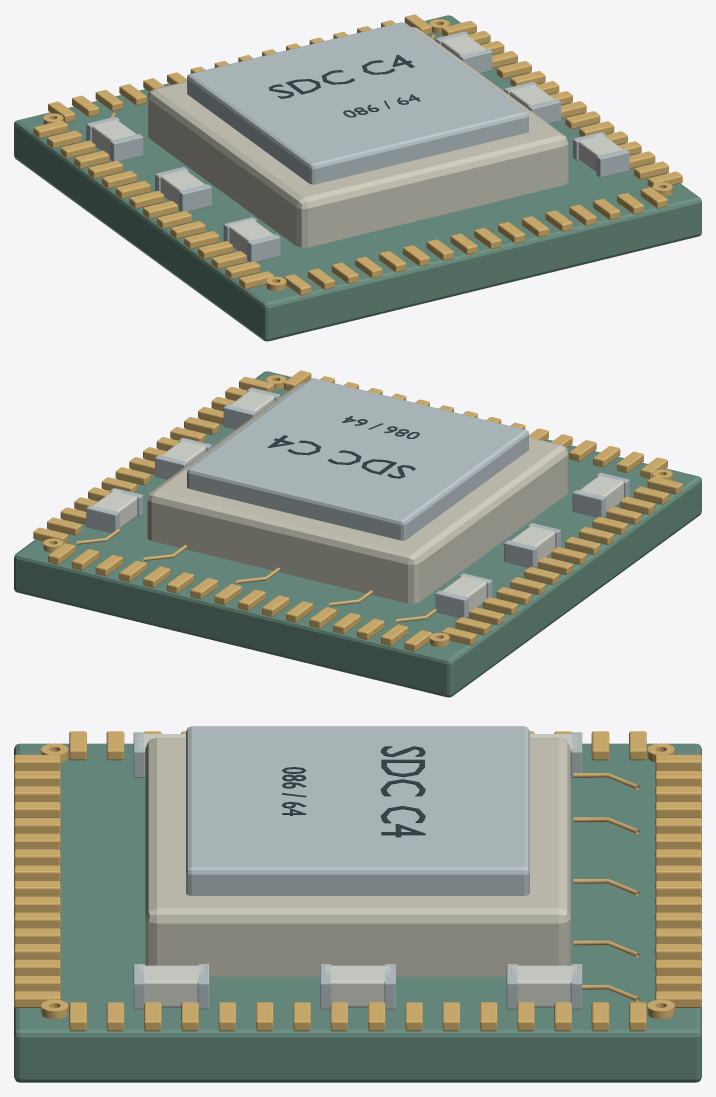
Rendered from loot_processor.glb.
3 renders of one model, top to bottom at view 1: azimuth 30°, elevation 25°; view 2: azimuth 150°, elevation 25°; view 3: azimuth 270°, elevation 25°, orthographic. The views are drawn at different scales.
Visible parts, largest first — view 1: loot_processor; view 2: loot_processor; view 3: loot_processor.
Part boxes in pixels (x1,y1,x2,y2): loot_processor: [14, 14, 701, 341]; loot_processor: [14, 370, 701, 697]; loot_processor: [14, 726, 701, 1082].
Bounding box in the file's own units: 0.118 × 0.0281 × 0.118.
